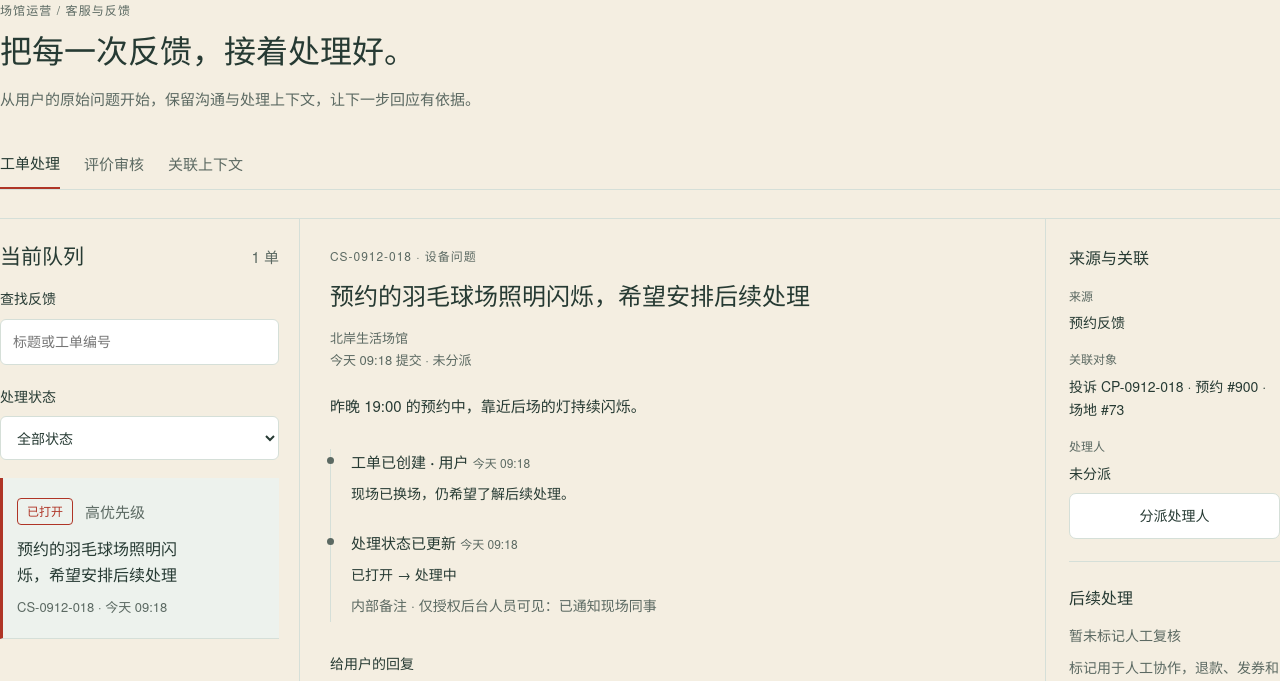
it: ShiguangVenueCustomerServiceView 评价审核与关联上下文 › 审核不写原因时不发请求
The width and height of the screenshot is (1280, 681).
Click the button with test id "tab-reviews": (114, 164) top-left (84, 140), bottom-right (144, 190)
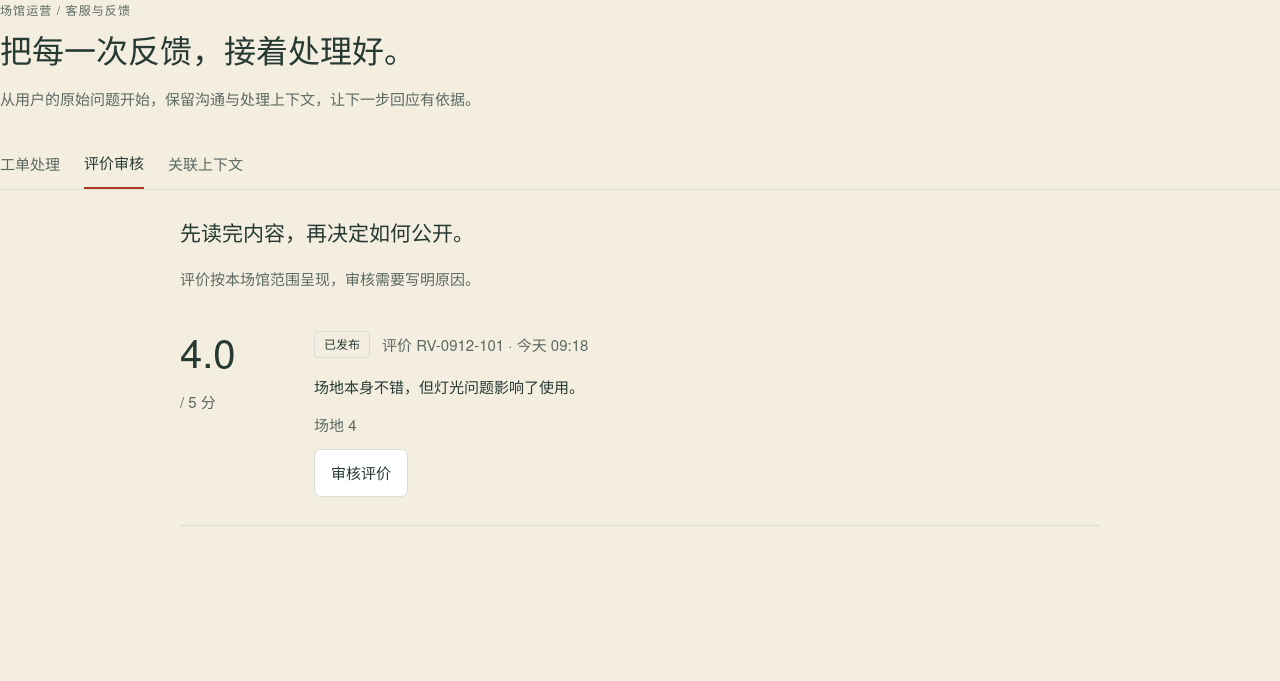
Click the button with test id "open-moderate-101": (361, 473) top-left (314, 449), bottom-right (408, 497)
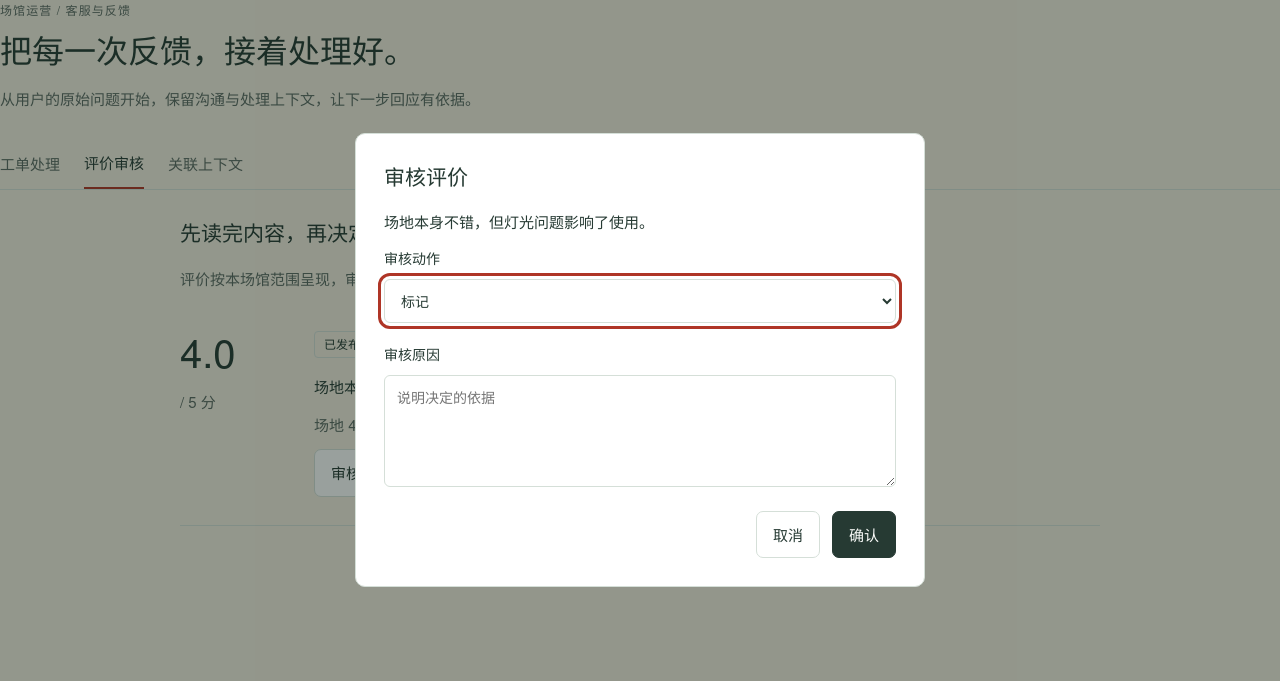
Submit the form with test id "action-form", box top-left (384, 162), bottom-right (896, 558)
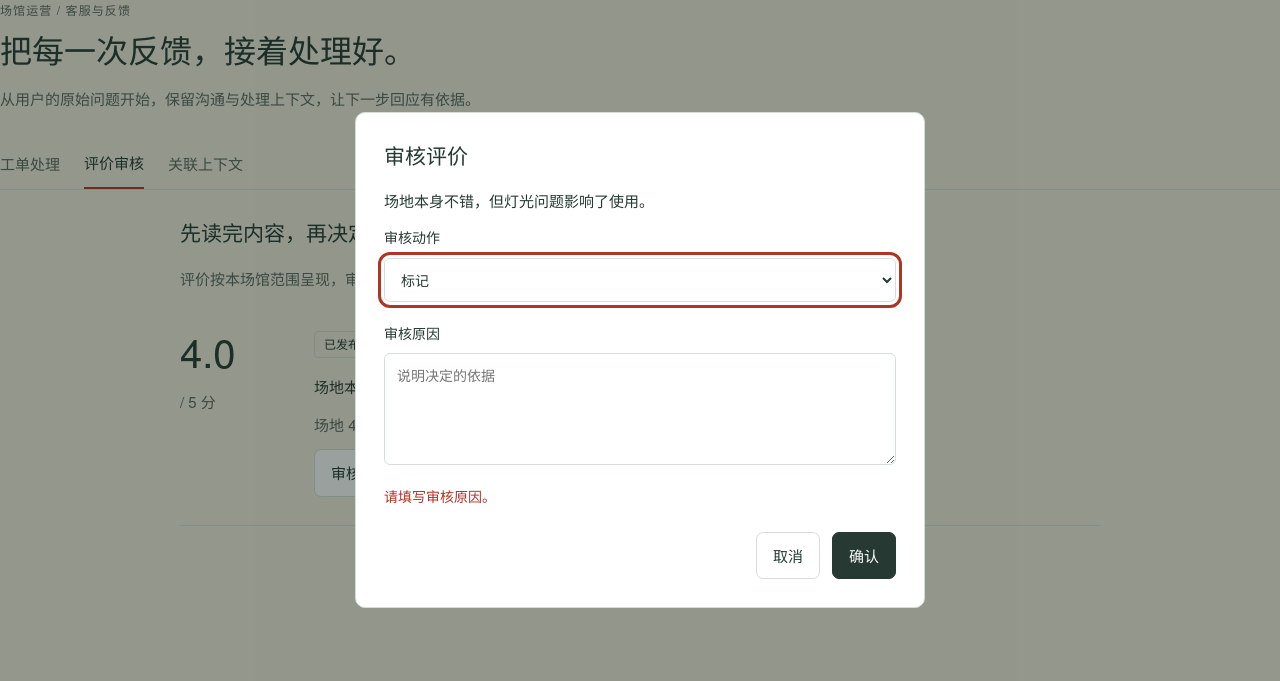
expect the message with test id "dialog-error" reads "请填写审核原因。": met, box top-left (384, 486), bottom-right (496, 506)
